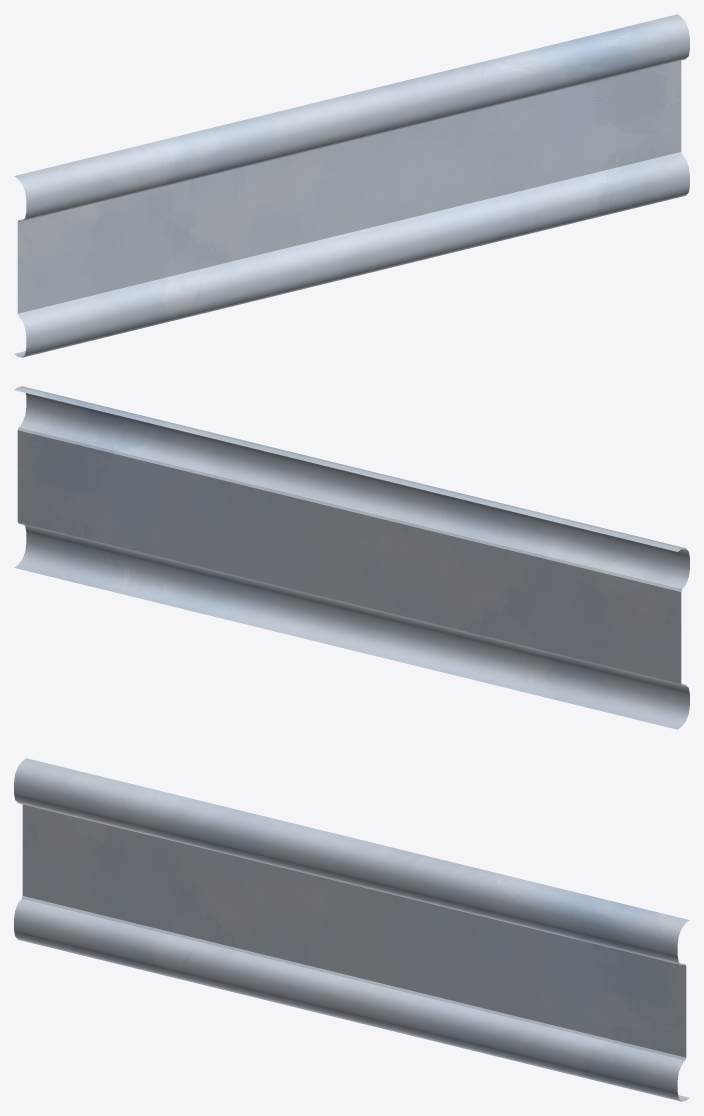
File: Frame middle.fbx
3 renders of one model, top to bottom at view 1: azimuth 30°, elevation 25°; view 2: azimuth 150°, elevation 25°; view 3: azimuth 330°, elevation 25°, orthographic.
Visible parts, largest first — view 1: Frame middle; view 2: Frame middle; view 3: Frame middle.
Part boxes in pixels (bbox=[...]): Frame middle: bbox=[14, 14, 689, 357]; Frame middle: bbox=[14, 386, 689, 729]; Frame middle: bbox=[14, 758, 689, 1101].
Bounding box in the file's own units: 200 × 51.19 × 6.47.
